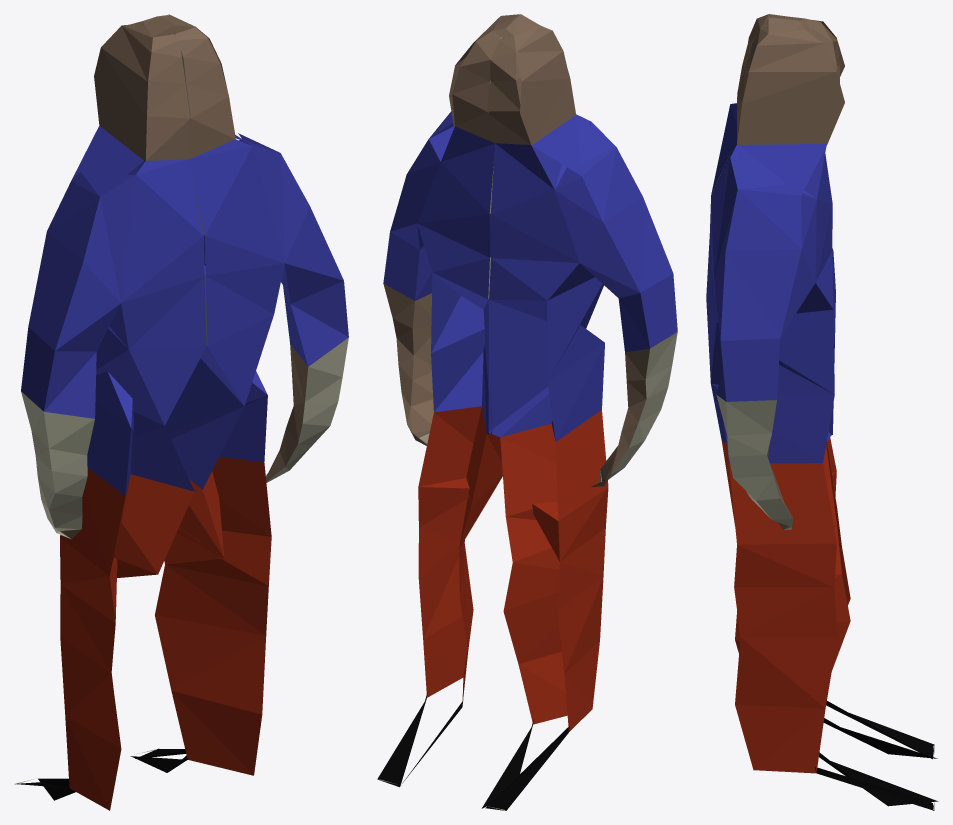
Rendered from man.obj.
3 views of the same model, side by side, from view 1: azimuth 30°, elevation 25°; view 2: azimuth 150°, elevation 25°; view 3: azimuth 270°, elevation 25° (orthographic). The views are drawn at different scales.
Parts seen in each view (by area): view 1: Cube; view 2: Cube; view 3: Cube.
Part boxes in pixels (x1,y1,x2,y2): Cube: [14, 14, 348, 810]; Cube: [377, 14, 677, 810]; Cube: [706, 14, 938, 810].
Bounding box in the file's own units: 3.05 × 7.74 × 2.13.
